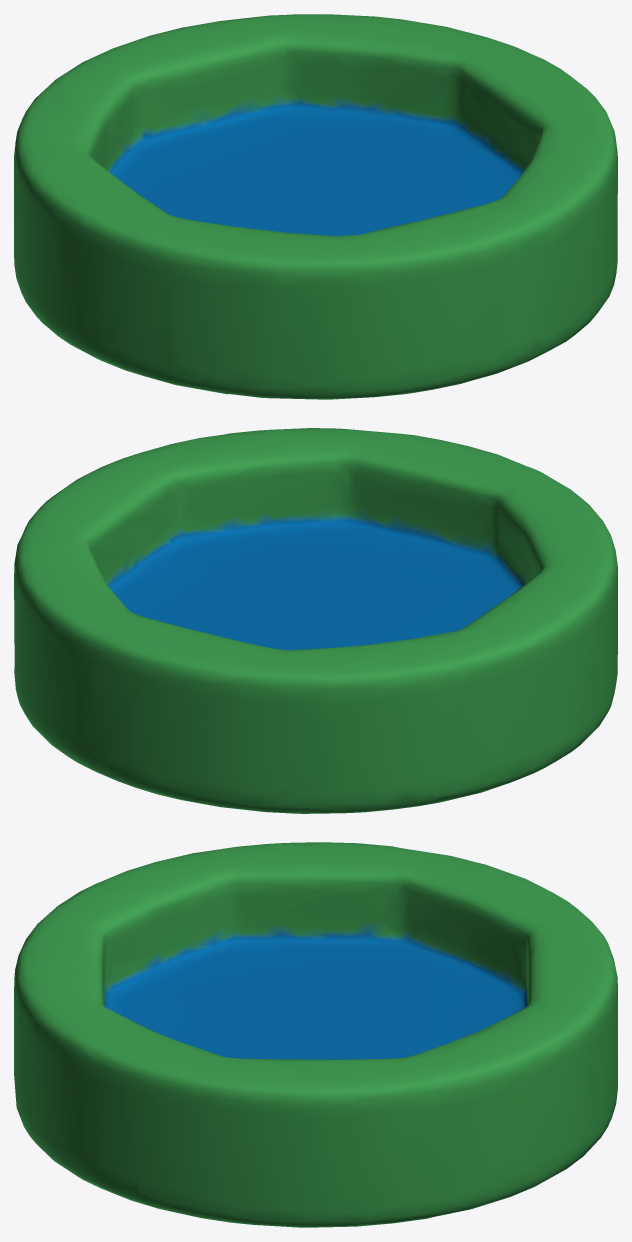
The model's file is gen3d-koi-pond-lod0.glb.
3 views of the same model, one above another, from view 1: azimuth 30°, elevation 25°; view 2: azimuth 150°, elevation 25°; view 3: azimuth 270°, elevation 25° (orthographic).
Visible parts, largest first — view 1: part_0; view 2: part_0; view 3: part_0.
Part boxes in pixels (bbox=[...]): part_0: bbox=[14, 14, 617, 399]; part_0: bbox=[14, 428, 617, 813]; part_0: bbox=[14, 842, 617, 1227].
Size of the model in its own units: 3.84 by 0.9995 by 3.84.
